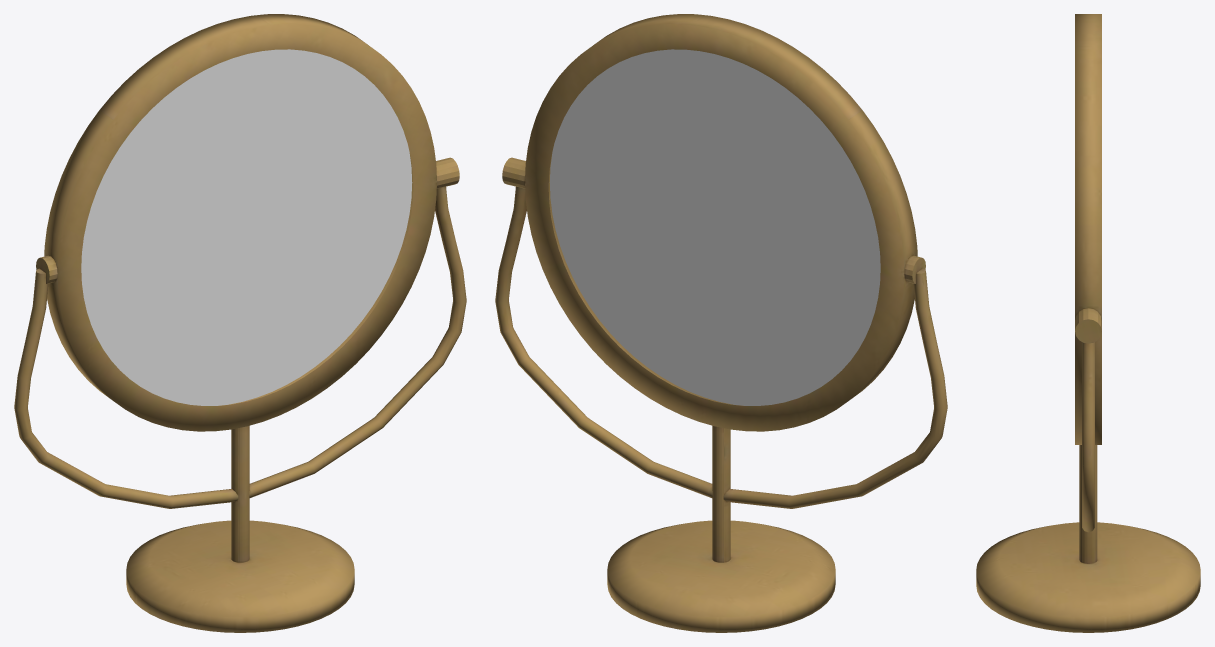
File: vanity-round.glb
3 renders of one model, left to right at view 1: azimuth 30°, elevation 25°; view 2: azimuth 150°, elevation 25°; view 3: azimuth 270°, elevation 25°, orthographic.
Parts seen in each view (by area): view 1: mirror, brass; view 2: mirror, brass; view 3: brass.
Boxes of the visible parts, x1,y1,x2,y2 form: mirror: (81,49,412,405); brass: (14,14,466,632); mirror: (549,49,880,405); brass: (495,14,947,632); brass: (976,14,1200,632).
Bounding box in the file's own units: 0.4561 × 0.542 × 0.2.
Materials: 2 (1 with a texture image).
